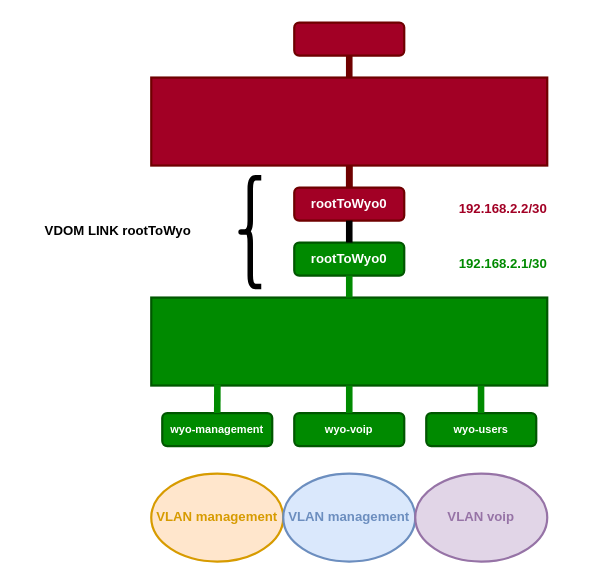
This 609x581 diagram has some shape labels left out. The shapes that lost their labels are listed below. From the top down, each one's box as (x1, y1, x2, y2) in pixels, then its label:
(293, 21, 405, 56): wan1
(150, 76, 548, 166): VDOM root
(150, 296, 548, 386): VDOM Wyoming
